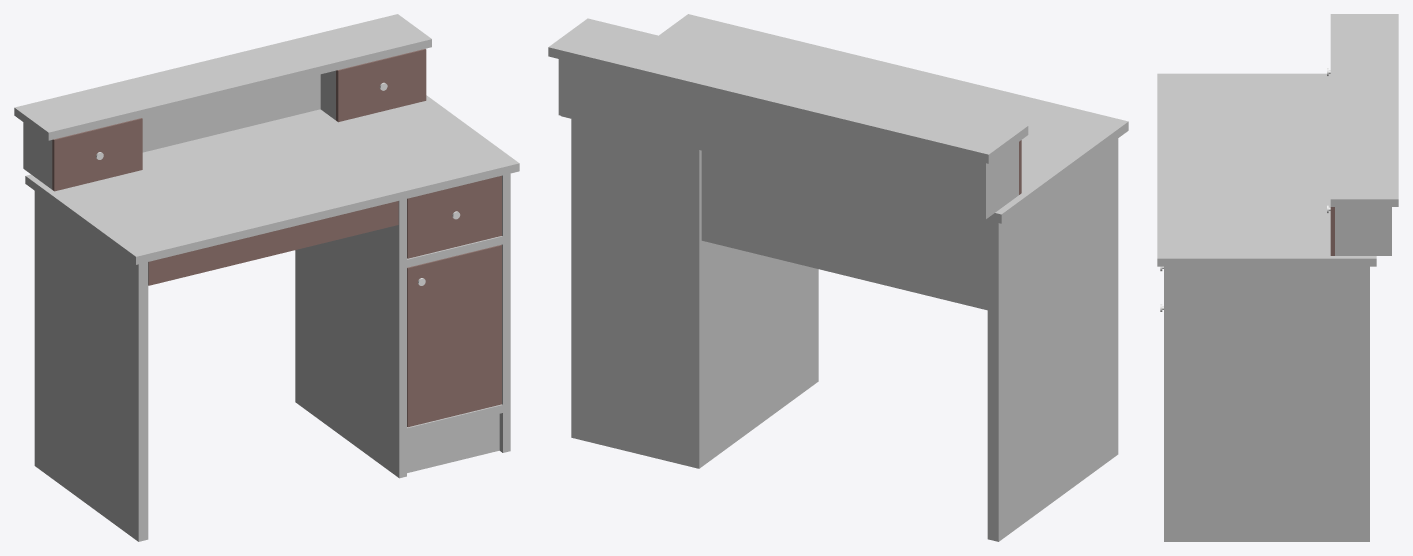
File: 498_デスク.glb
3 renders of one model, left to right at view 1: azimuth 30°, elevation 25°; view 2: azimuth 150°, elevation 25°; view 3: azimuth 270°, elevation 25°, orthographic. The views are drawn at different scales.
Visible parts, largest first — view 1: Body, tobira, hikidashi_3, hikidashi_4, hikidashi_1, hikidashi_2; view 2: Body; view 3: Body.
Part boxes in pixels (left/top/right/bottom): Body: left=14, top=14, right=519, bottom=541; tobira: left=407, top=245, right=501, bottom=427; hikidashi_3: left=148, top=201, right=398, bottom=285; hikidashi_4: left=407, top=175, right=501, bottom=258; hikidashi_1: left=52, top=118, right=142, bottom=191; hikidashi_2: left=336, top=49, right=426, bottom=122; Body: left=548, top=14, right=1128, bottom=541; Body: left=1157, top=14, right=1398, bottom=541.
Bounding box in the file's own units: 1 × 0.87 × 0.55.
